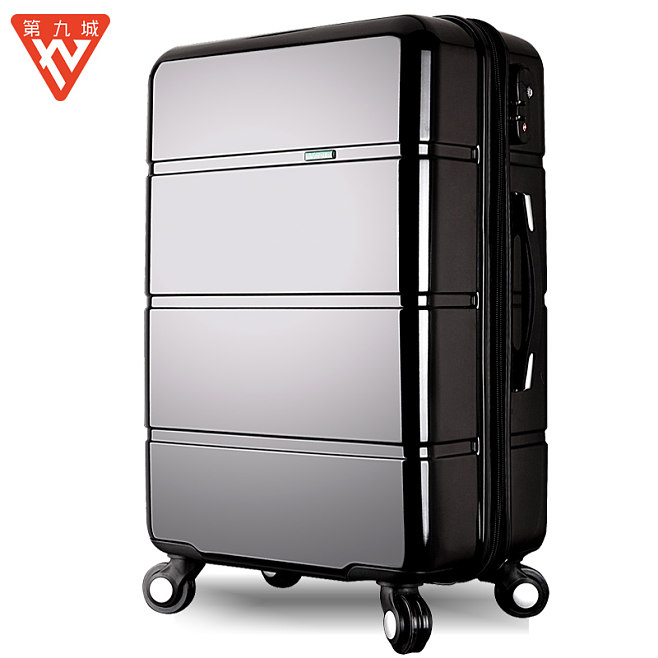box: (147, 12, 547, 587)
handle: (510, 187, 542, 394)
lock: (509, 62, 536, 146)
wheel: (382, 589, 433, 654), (494, 564, 550, 618), (143, 561, 197, 614)
